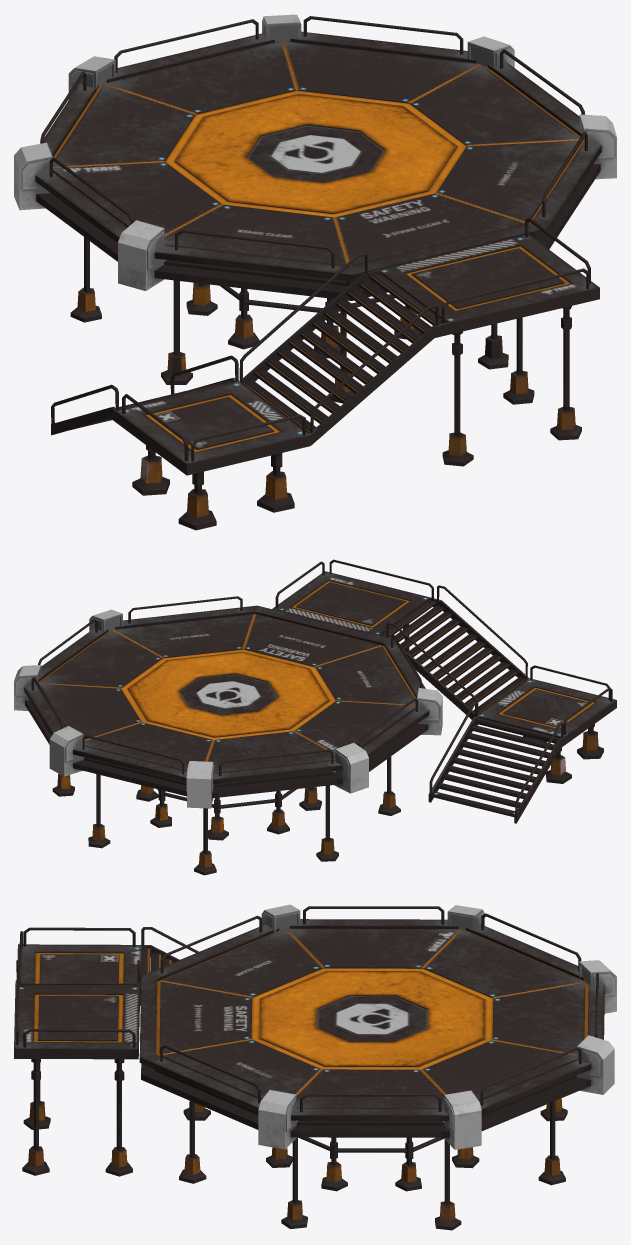
Rendered from DD_Platform.fbx.
The picture shows the model from 3 angles, top to bottom: view 1: azimuth 30°, elevation 25°; view 2: azimuth 150°, elevation 25°; view 3: azimuth 270°, elevation 25°; orthographic projection. The views are drawn at different scales.
Visible parts, largest first — view 1: Stairs044; view 2: Stairs044; view 3: Stairs044.
Part boxes in pixels (left/top/right/bottom): Stairs044: left=14, top=14, right=616, bottom=530; Stairs044: left=14, top=559, right=616, bottom=875; Stairs044: left=14, top=904, right=616, bottom=1230.
Size of the model in its own units: 2508 by 709 by 2624.
